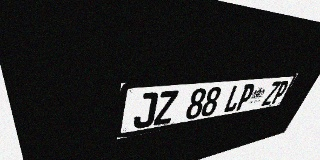8: (184, 87, 209, 120), (199, 86, 223, 117)
J: (132, 92, 159, 130)
L: (222, 84, 245, 113)
P: (234, 83, 257, 111), (270, 80, 290, 104)
Z: (153, 90, 179, 126), (261, 81, 282, 106)
